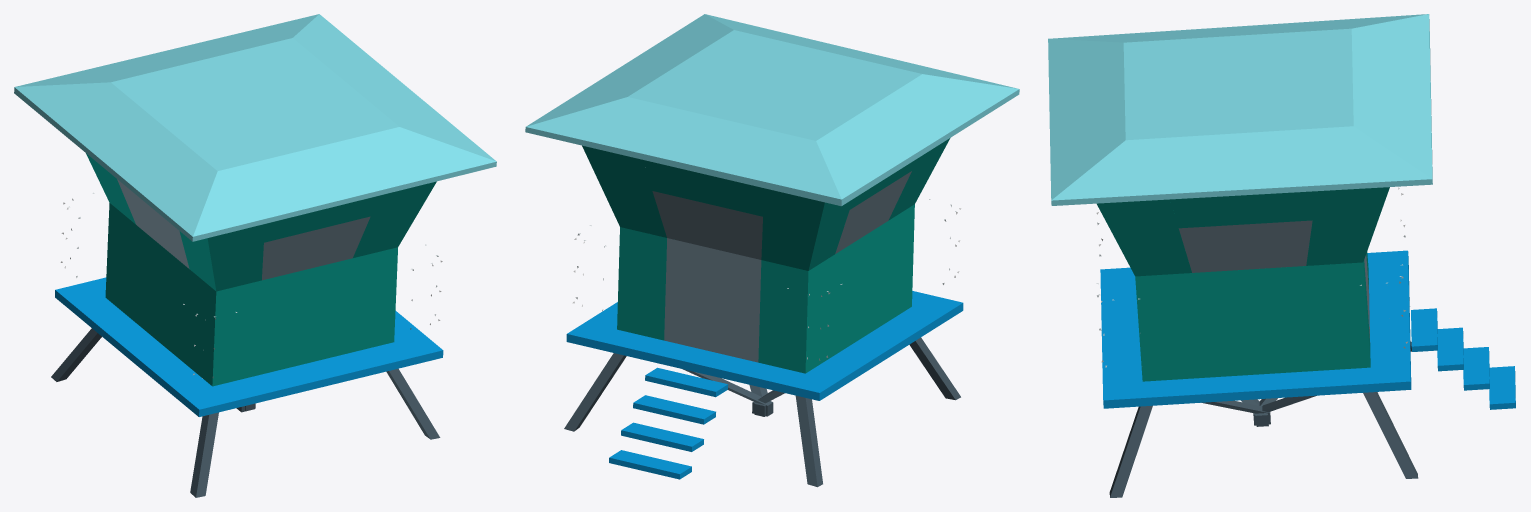
The model's file is lifeguard.glb.
3 renders of one model, left to right at view 1: azimuth 30°, elevation 25°; view 2: azimuth 150°, elevation 25°; view 3: azimuth 270°, elevation 25°, orthographic. The views are drawn at different scales.
Visible parts, largest first — view 1: group1257859374; view 2: group1257859374; view 3: group1257859374.
Boxes of the visible parts, x1=… form: group1257859374: x1=14, y1=14, x2=496, y2=497; group1257859374: x1=525, y1=14, x2=1019, y2=487; group1257859374: x1=1048, y1=14, x2=1515, y2=497.
Bounding box in the file's own units: 3.75 × 3.8 × 4.56.
